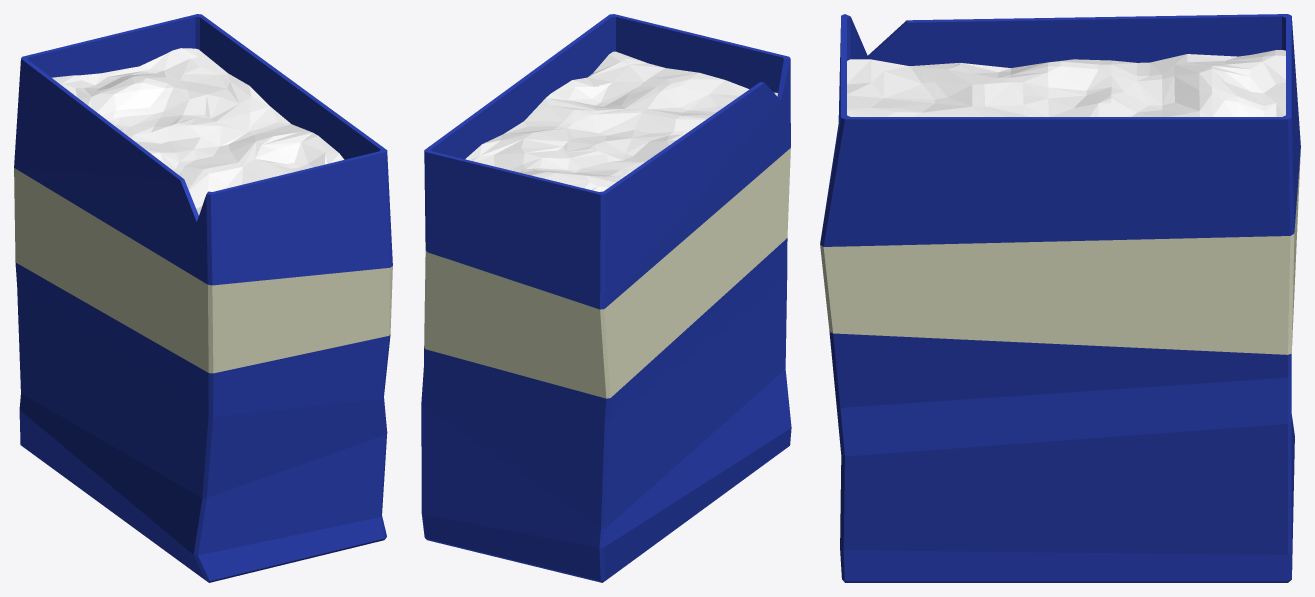
The model's file is p_Flour.FBX.
3 views of the same model, side by side, from view 1: azimuth 30°, elevation 25°; view 2: azimuth 150°, elevation 25°; view 3: azimuth 270°, elevation 25° (orthographic). The views are drawn at different scales.
Visible parts, largest first — view 1: Flour; view 2: Flour; view 3: Flour.
Boxes of the visible parts, x1=… form: Flour: x1=14, y1=14, x2=392, y2=582; Flour: x1=421, y1=14, x2=791, y2=582; Flour: x1=820, y1=14, x2=1300, y2=582.
Bounding box in the file's own units: 4.52 × 8.25 × 8.81.
